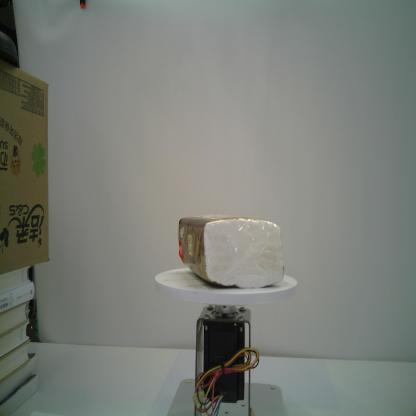Tissue: (177, 214, 287, 290)
